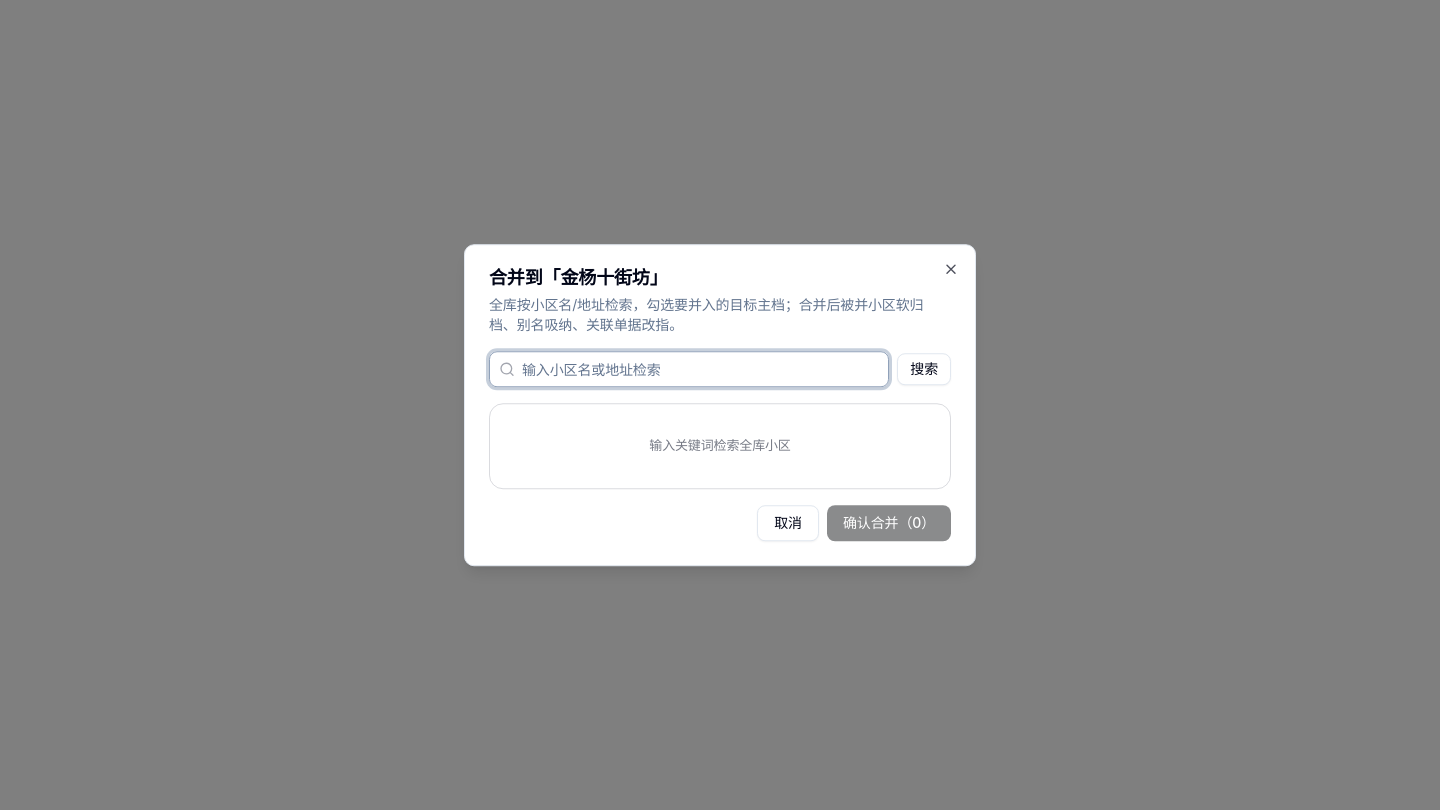
Test: MergeDialog · 影响预览消费方真实生效 › 勾选后拉取预览并把「将补入画像」渲染成 旧值 → 新值
In the field with placeholder "输入小区名或地址检索": (689, 369) x1=489 y1=351 x2=889 y2=387, type "金杨"
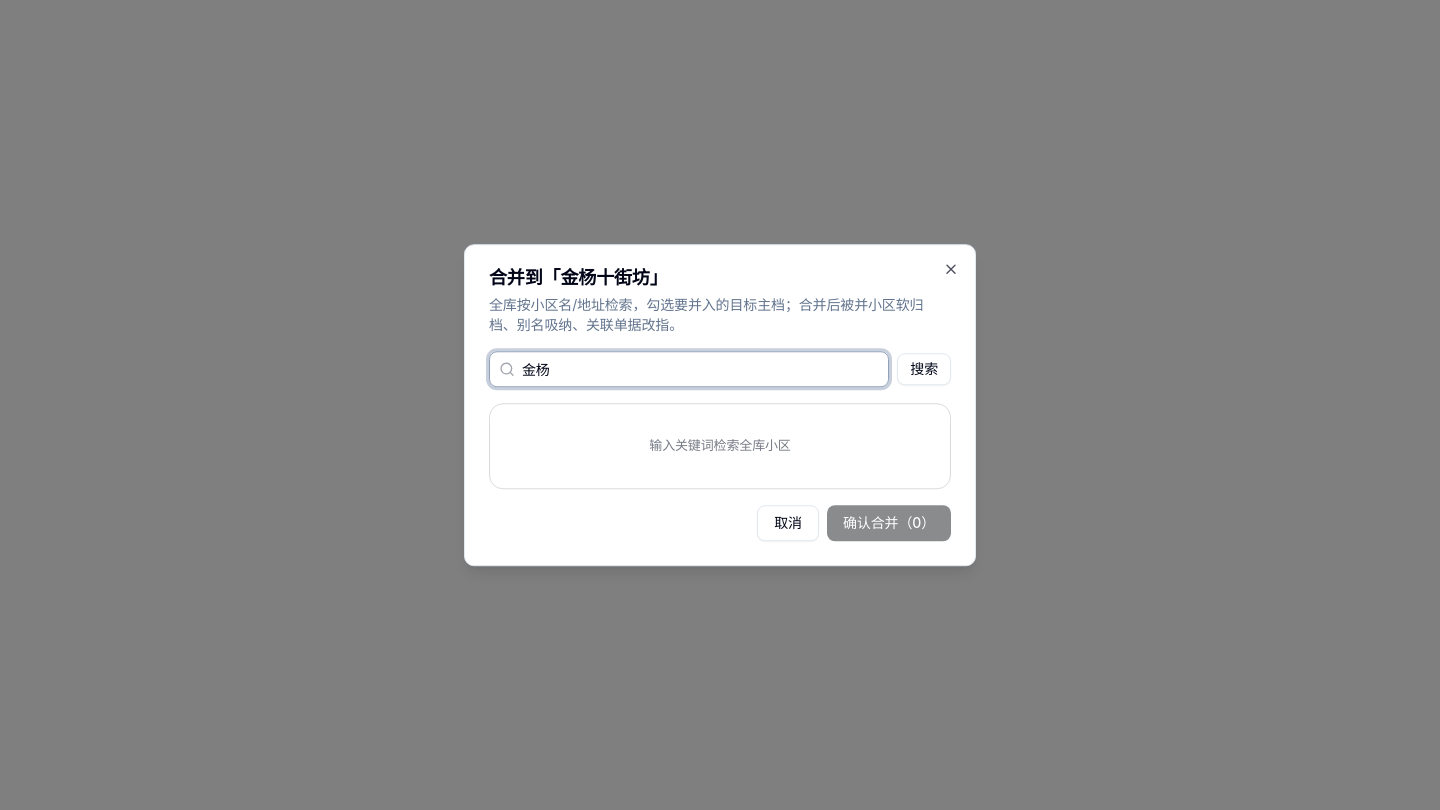
Click the button "搜索": (924, 369) x1=897 y1=353 x2=951 y2=385
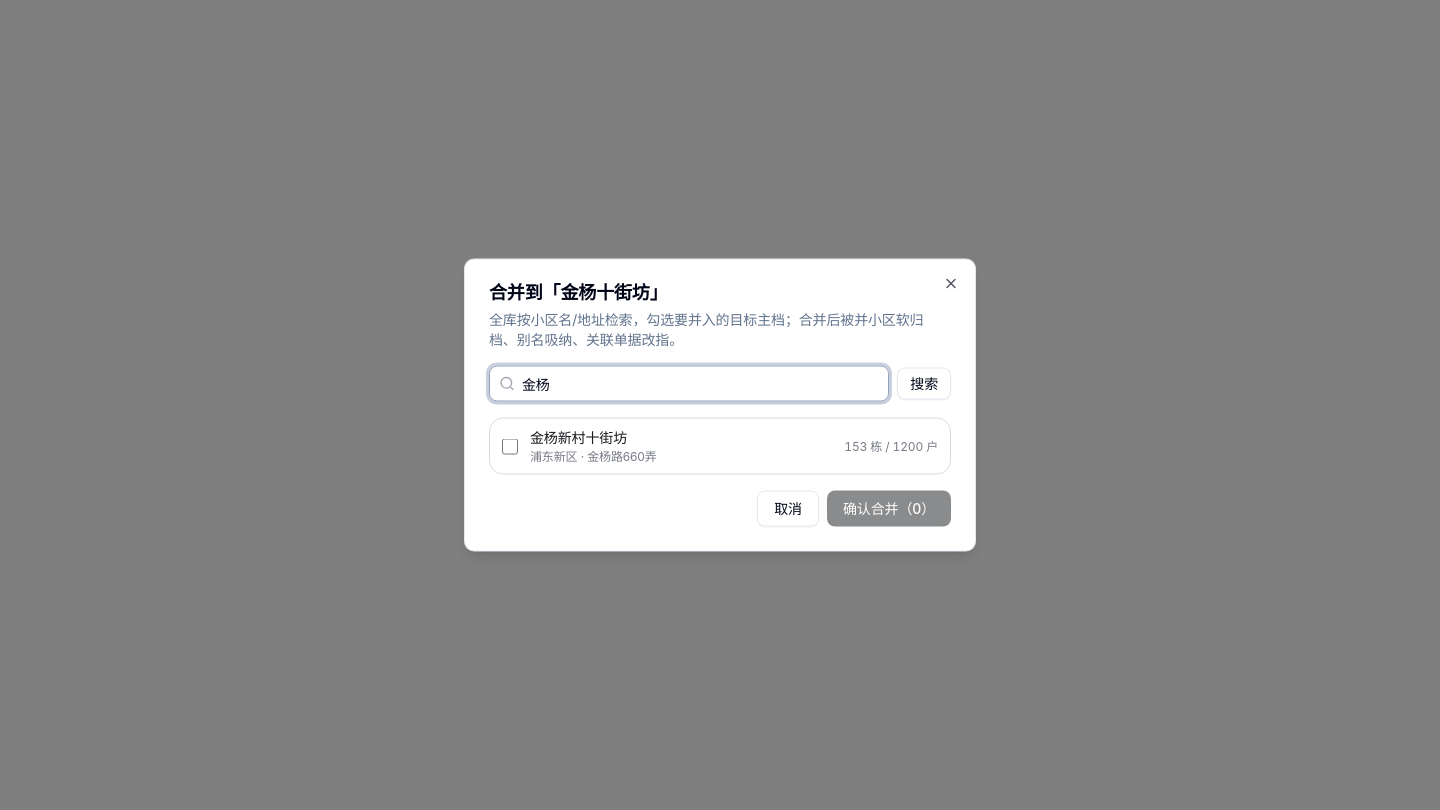
Click the button "金杨新村十街坊 浦东新区 · 金杨路660弄 153 栋 / 1200 户": (578, 437) x1=490 y1=418 x2=950 y2=474
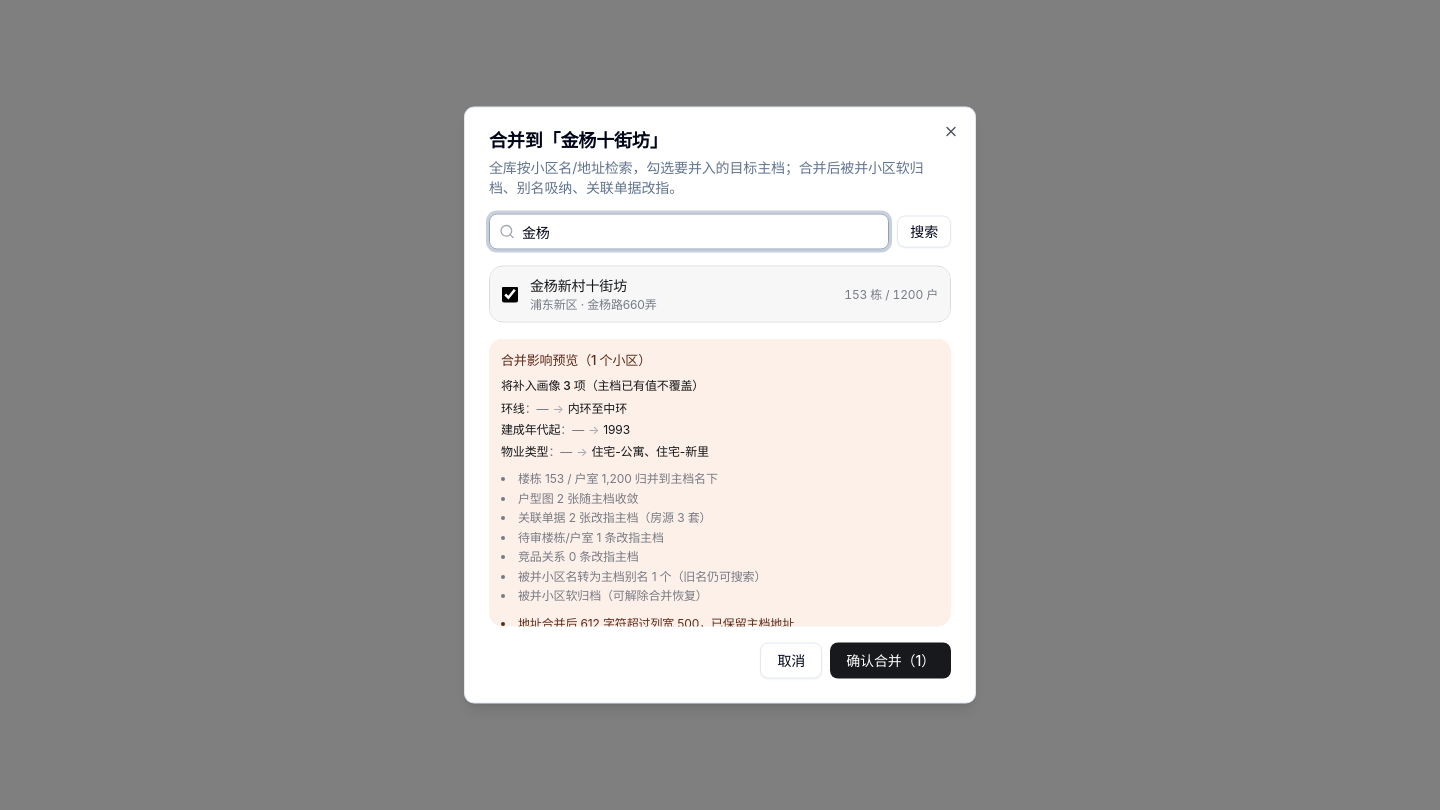
Expected: the text "环线：—→内环至中环" is shown, x1=501 y1=400 x2=627 y2=415
Expected: the text "物业类型：—→住宅-公寓、住宅-新里" is shown, x1=501 y1=443 x2=709 y2=458
Expected: the text "楼栋 153 / 户室 1,200 归并到主档名下" is shown, x1=518 y1=470 x2=718 y2=486
